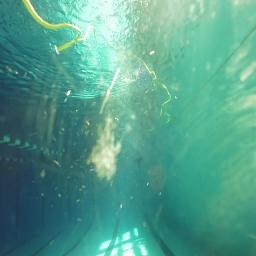Full: (133, 157, 143, 163)
